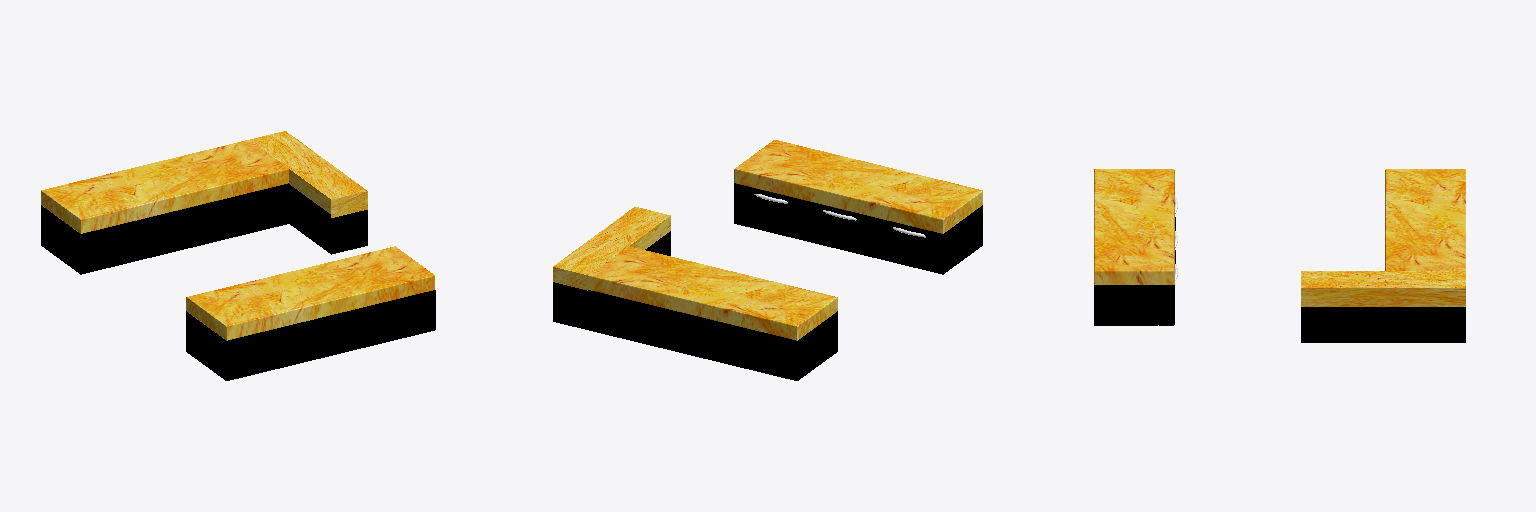
3 renders of one model, left to right at view 1: azimuth 30°, elevation 25°; view 2: azimuth 150°, elevation 25°; view 3: azimuth 270°, elevation 25°, orthographic.
Visible parts, largest first — view 1: pPlane27; view 2: pPlane27; view 3: pPlane27.
Part boxes in pixels (x1,y1,x2,y2): pPlane27: (41, 131, 435, 380); pPlane27: (553, 140, 982, 380); pPlane27: (1094, 169, 1465, 342).
Size of the model in its own units: 6.74 by 1.45 by 8.86.
Materials: 4 (2 with a texture image).